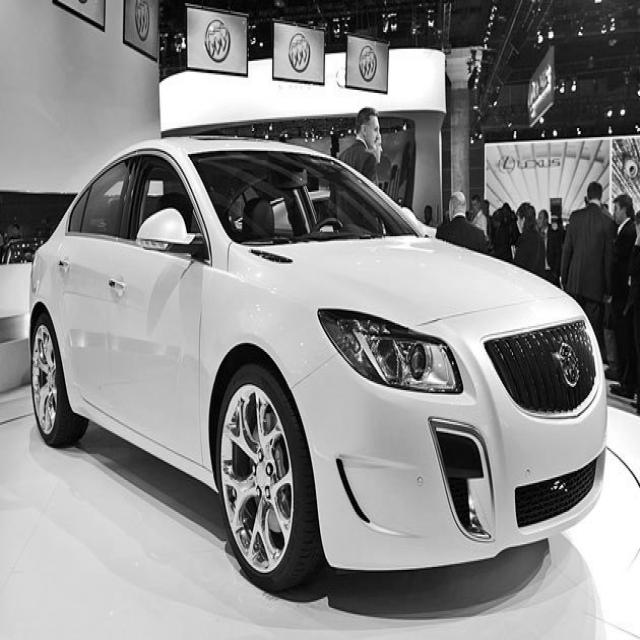car: (28, 133, 608, 594)
